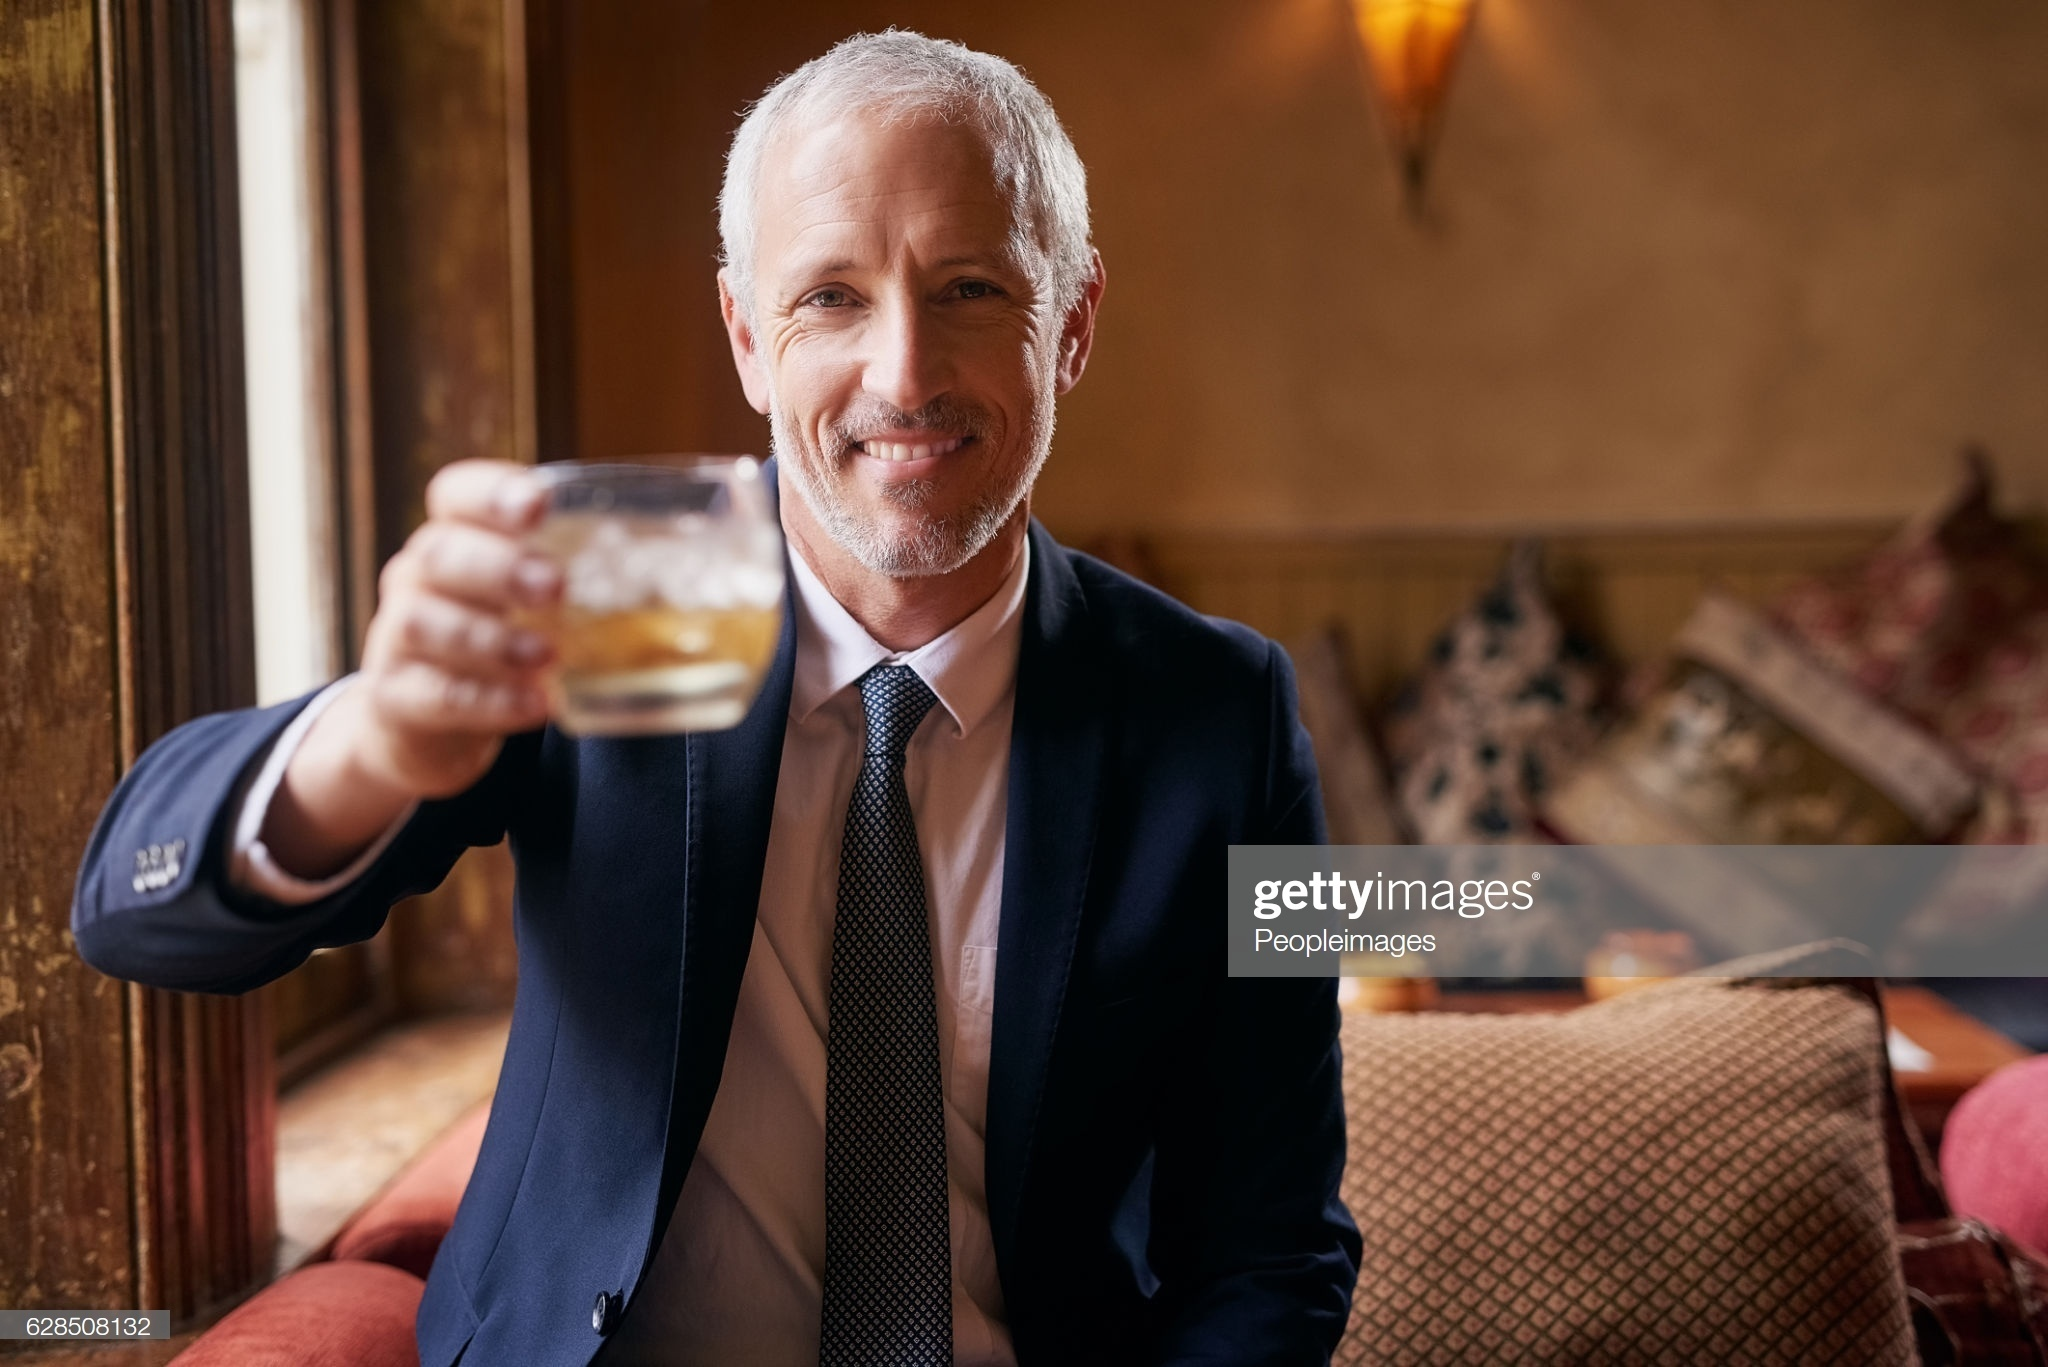whiskey: (499, 450, 785, 732)
